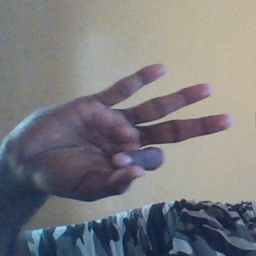K: (11, 60, 233, 202)
